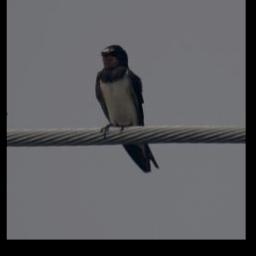Swallow: (95, 44, 160, 172)
